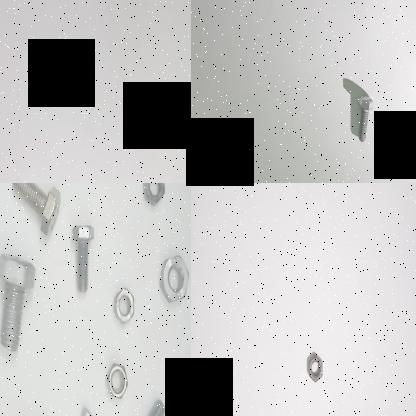Bolts: (0, 242, 39, 356), (4, 183, 64, 238), (66, 209, 96, 299), (356, 92, 375, 145), (130, 391, 166, 416)
NUTS: (153, 243, 191, 314), (110, 276, 138, 329), (102, 360, 132, 402), (138, 183, 168, 211), (306, 350, 326, 386)
